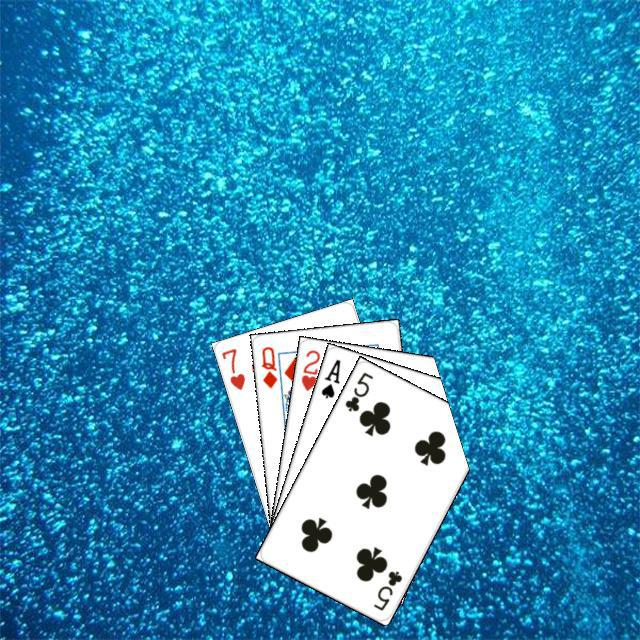2h: (296, 345, 322, 392)
5c: (368, 566, 404, 612), (340, 367, 375, 413)
7h: (216, 343, 247, 392)
As: (316, 354, 342, 400)
Qd: (257, 342, 279, 390)
